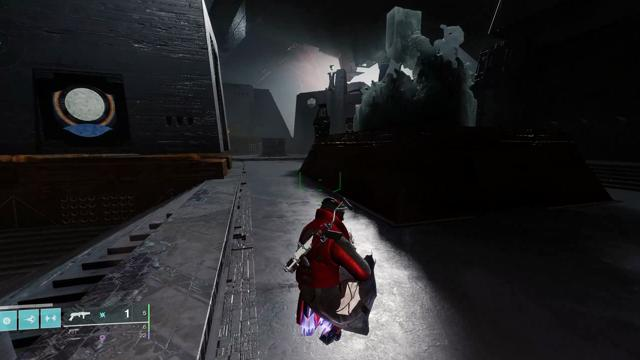commune: (307, 98, 317, 109)
traveler: (51, 84, 118, 138)
